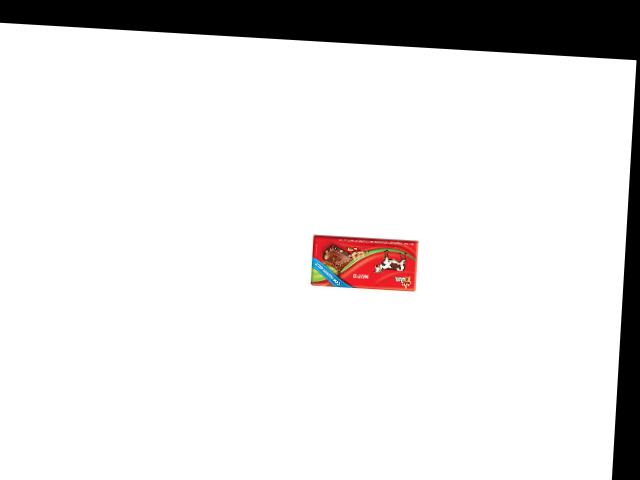chocolate: (311, 236, 423, 292)
